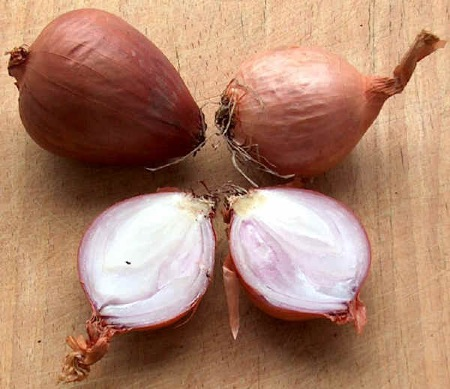onion: (213, 32, 445, 180), (3, 7, 202, 171), (57, 185, 218, 386), (212, 182, 375, 339)
